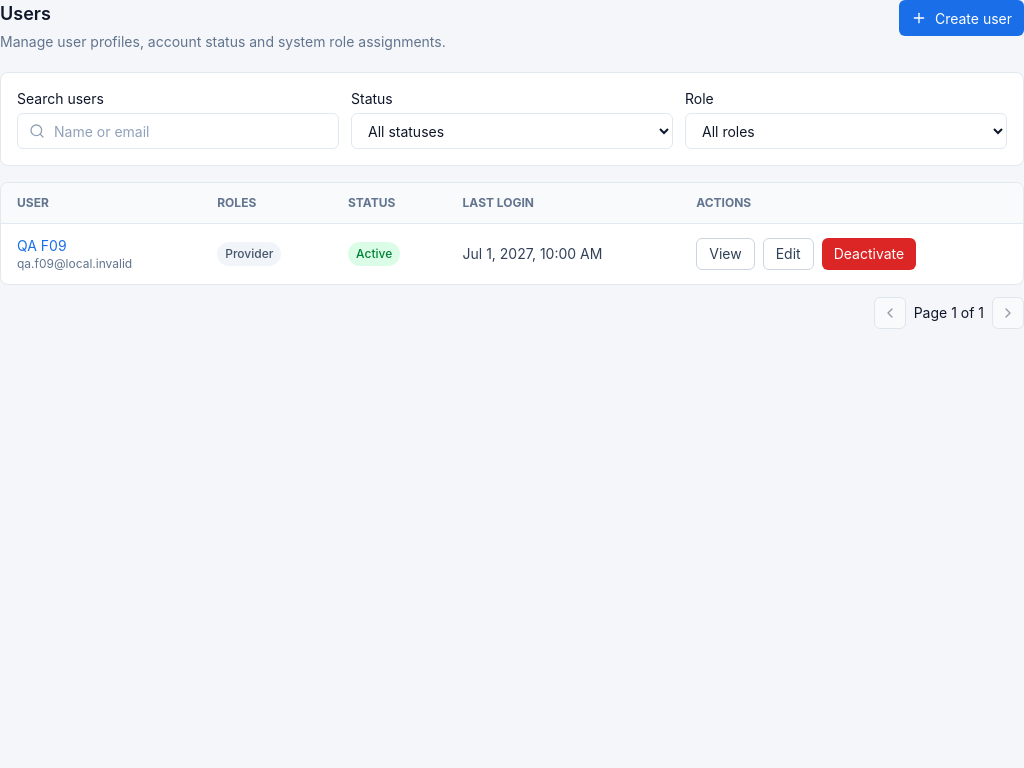
Test: F09 administration UI › loads user detail from the exact endpoint
Click the button "View" at (726, 254), box top-left (696, 238), bottom-right (755, 270)
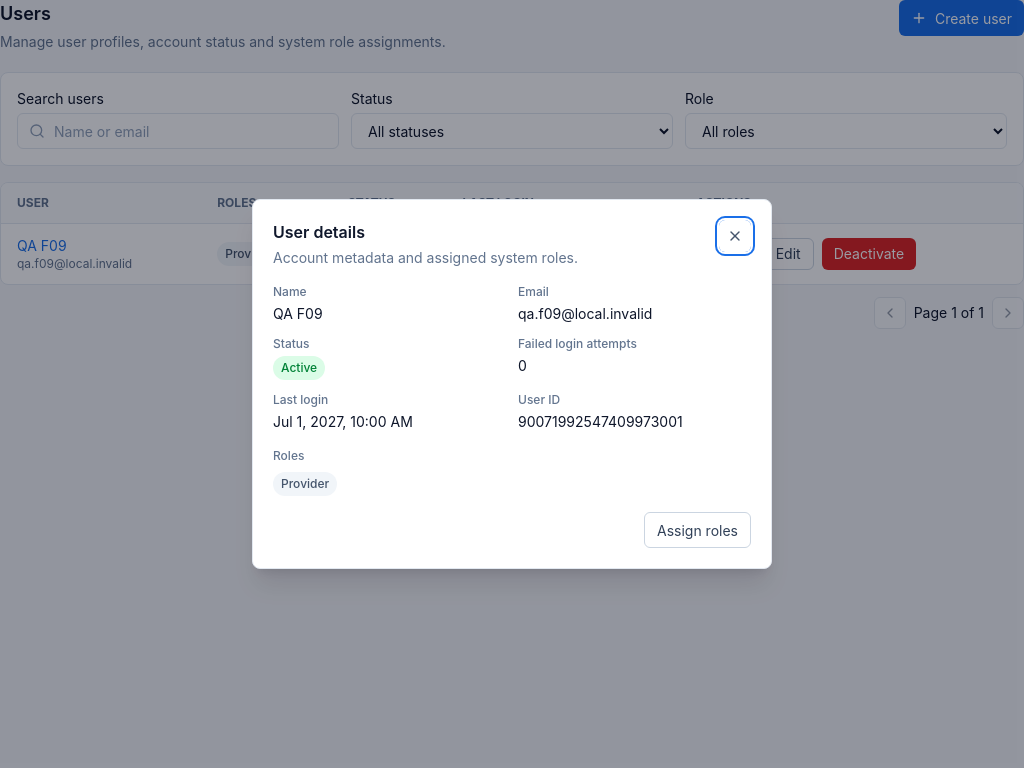
expect the heading "User details" is shown: met, box top-left (273, 222), bottom-right (365, 242)
